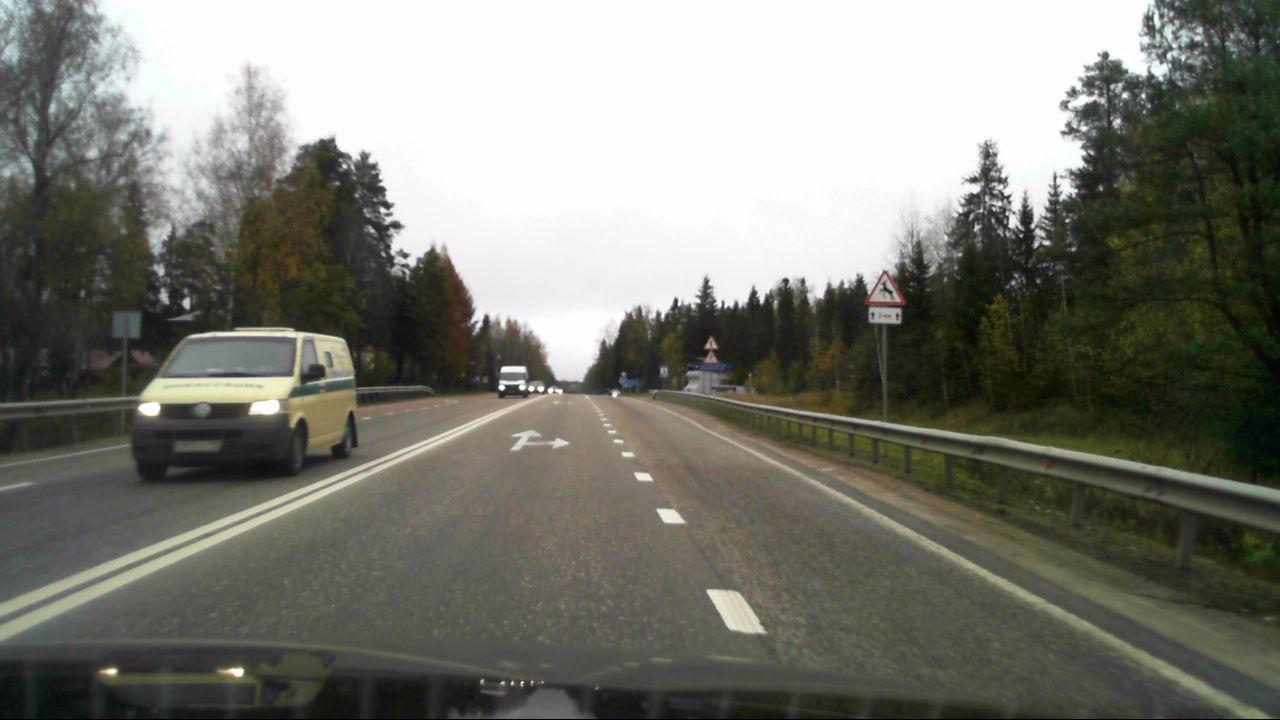1_22: (704, 350, 721, 363)
1_27: (866, 271, 903, 305)
2_3_4: (702, 335, 720, 349)
7_3: (659, 366, 669, 379)
8_2_1: (867, 307, 901, 325)
